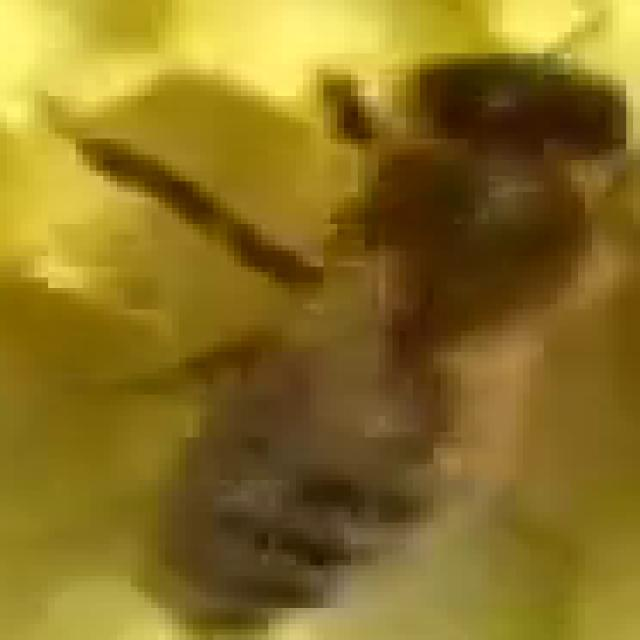honeybee: (135, 36, 640, 640)
